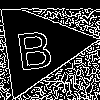B: (13, 21, 55, 71)
